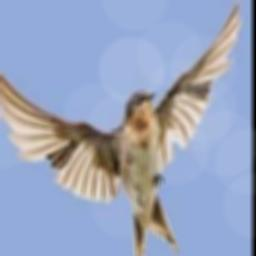Swallow: (0, 0, 240, 256)
